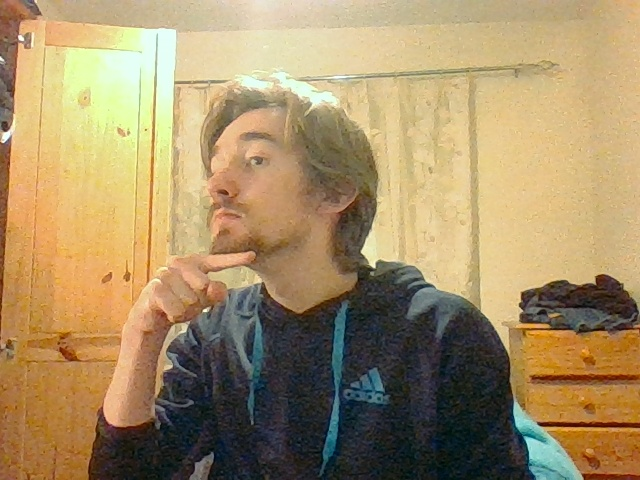son: (140, 251, 256, 324)
